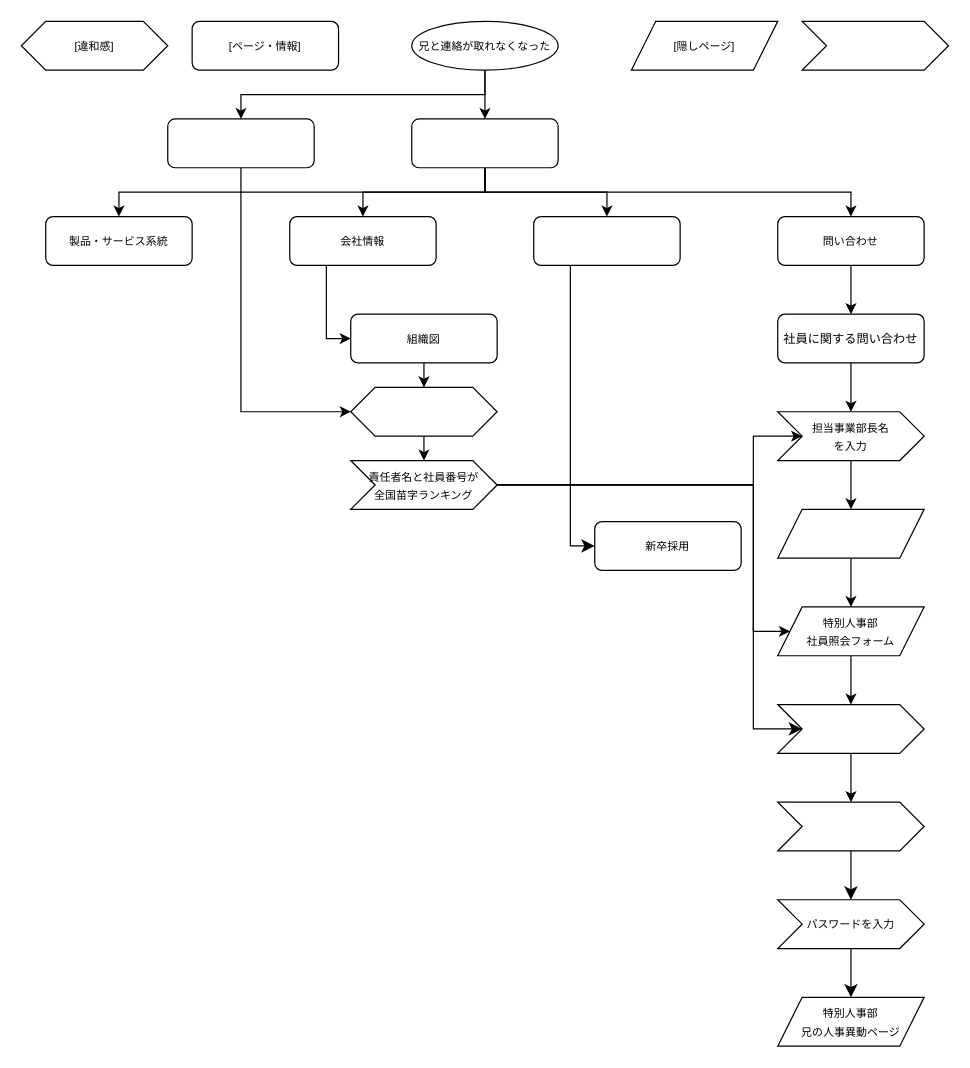
Some shapes in this 970 by 1068 pixel diagram are drawn without their labels. Each missing label, with the box of its shape:
[アクション・謎解き]: (801, 20, 949, 70)
トップ: (411, 118, 558, 168)
人事部の部長名と 社員番号を入力: (777, 703, 924, 753)
兄の最後の言葉: (167, 118, 314, 168)
兄の社員番号を入力: (777, 801, 924, 851)
兄の配属先の 部署や 上司の 名前がない: (350, 386, 497, 436)
採用情報: (533, 215, 680, 265)
特別組込み事業部: (777, 508, 924, 558)
